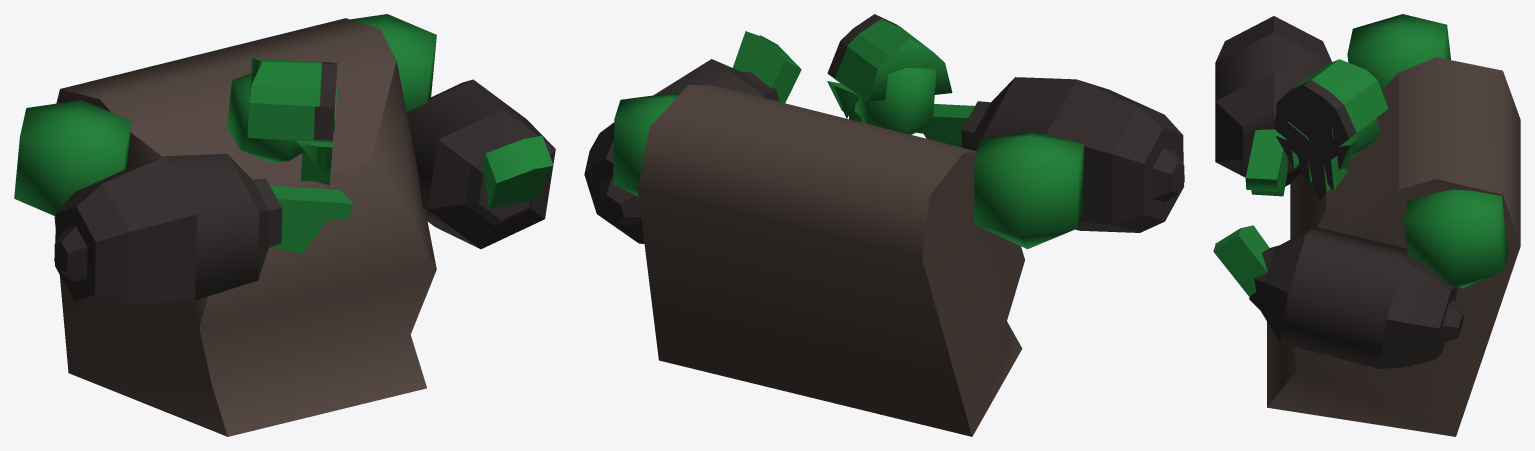
Rendered from enemy2body.FBX.
The picture shows the model from 3 angles, left to right: view 1: azimuth 30°, elevation 25°; view 2: azimuth 150°, elevation 25°; view 3: azimuth 270°, elevation 25°; orthographic projection. The views are drawn at different scales.
Parts seen in each view (by area): view 1: Line007; view 2: Line007; view 3: Line007.
Boxes of the visible parts, x1,y1,x2,y2 form: Line007: (14, 14, 555, 436); Line007: (584, 14, 1184, 436); Line007: (1213, 14, 1520, 436).
Size of the model in its own units: 107 by 63.25 by 59.95.
